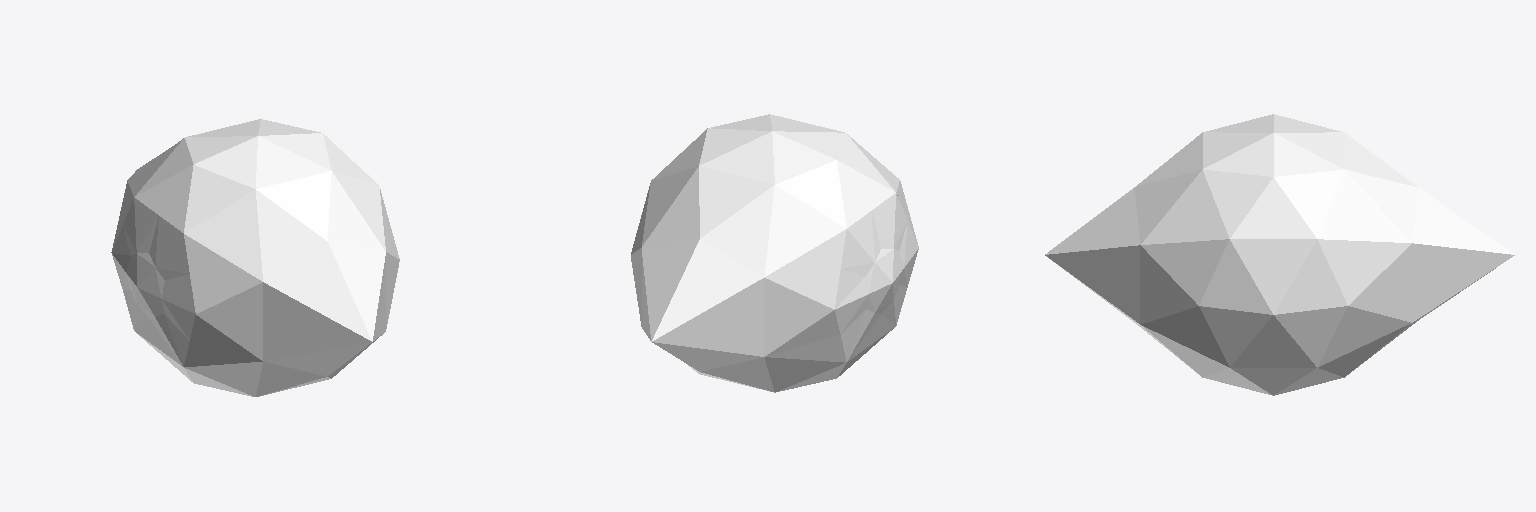
The model's file is LeftEye 1 (17).obj.
The picture shows the model from 3 angles: view 1: azimuth 30°, elevation 25°; view 2: azimuth 150°, elevation 25°; view 3: azimuth 270°, elevation 25°; orthographic projection.
Parts seen in each view (by area): view 1: LeftEye 1 (17); view 2: LeftEye 1 (17); view 3: LeftEye 1 (17).
Boxes of the visible parts, box(x1,y1,x2,y2) form: LeftEye 1 (17): box(111, 119, 399, 396); LeftEye 1 (17): box(631, 114, 918, 392); LeftEye 1 (17): box(1045, 114, 1514, 395).
Bounding box in the file's own units: 0.0595 × 0.0573 × 0.0997.